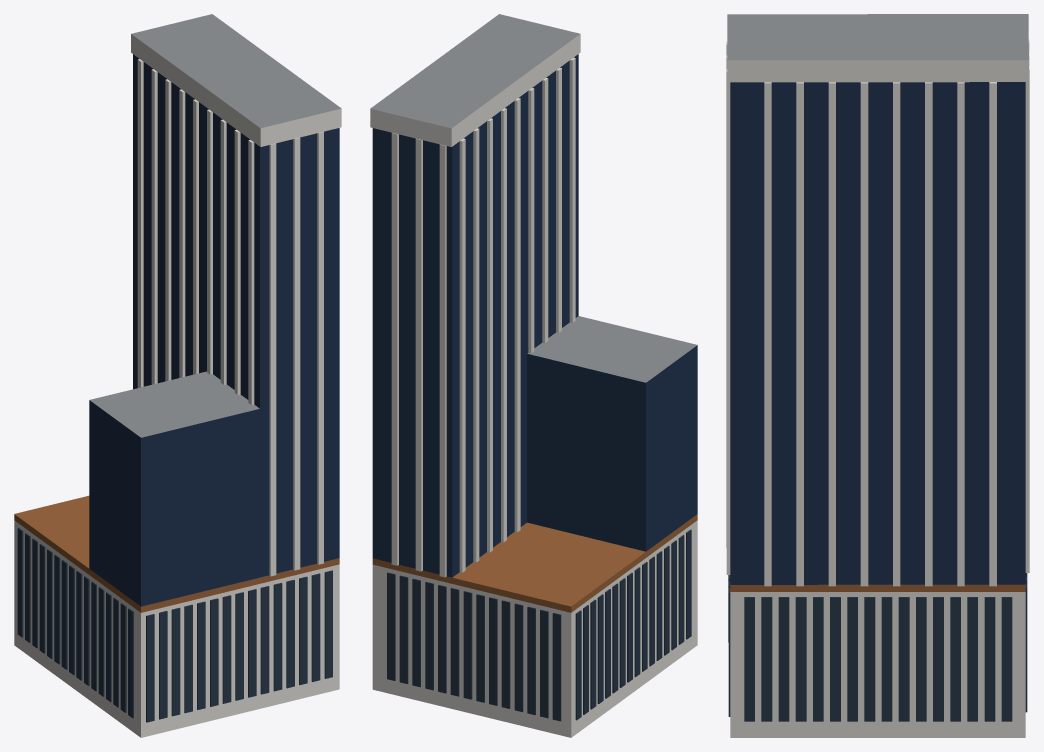
Rendered from astra_tower.glb.
The picture shows the model from 3 angles, left to right: view 1: azimuth 30°, elevation 25°; view 2: azimuth 150°, elevation 25°; view 3: azimuth 270°, elevation 25°; orthographic projection. The views are drawn at different scales.
Visible parts, largest first — view 1: Astra_Tower; view 2: Astra_Tower; view 3: Astra_Tower.
Boxes of the visible parts, x1,y1,x2,y2 form: Astra_Tower: (14, 14, 341, 737); Astra_Tower: (370, 14, 697, 737); Astra_Tower: (726, 14, 1029, 737).
Bounding box in the file's own units: 50.89 × 140 × 56.49.
